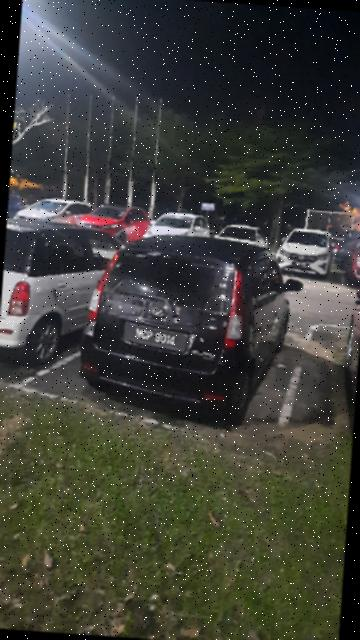License_Plate: (120, 320, 193, 355)
car: (75, 227, 309, 431), (1, 209, 135, 376)
